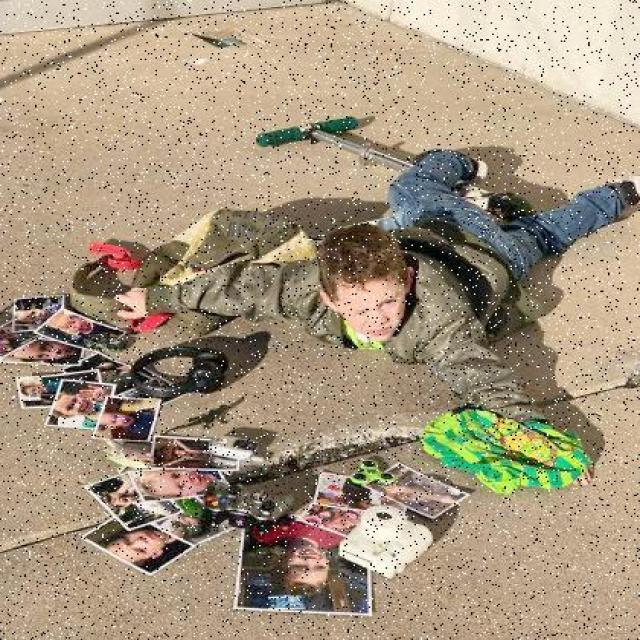fall: (156, 138, 624, 414)
